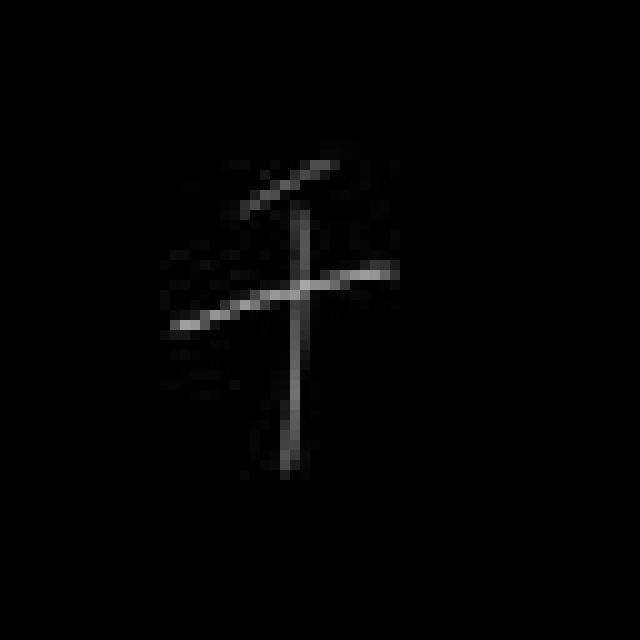1000 -a thousand-: (163, 157, 400, 483)
